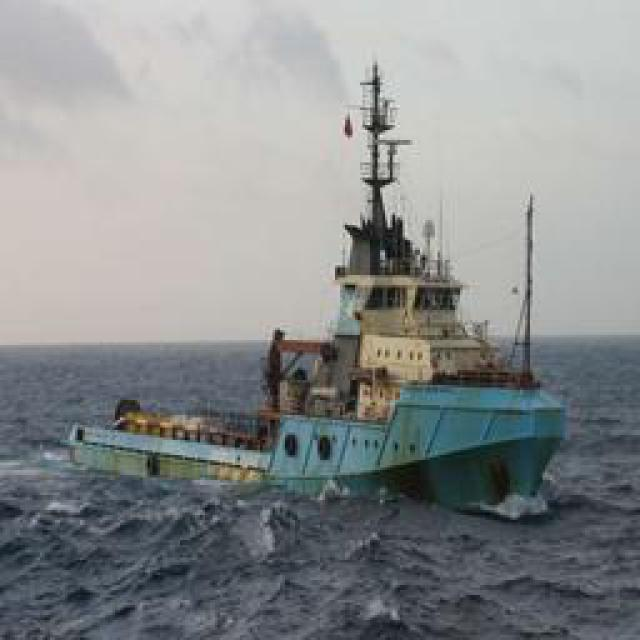Ship: (54, 75, 574, 530)
